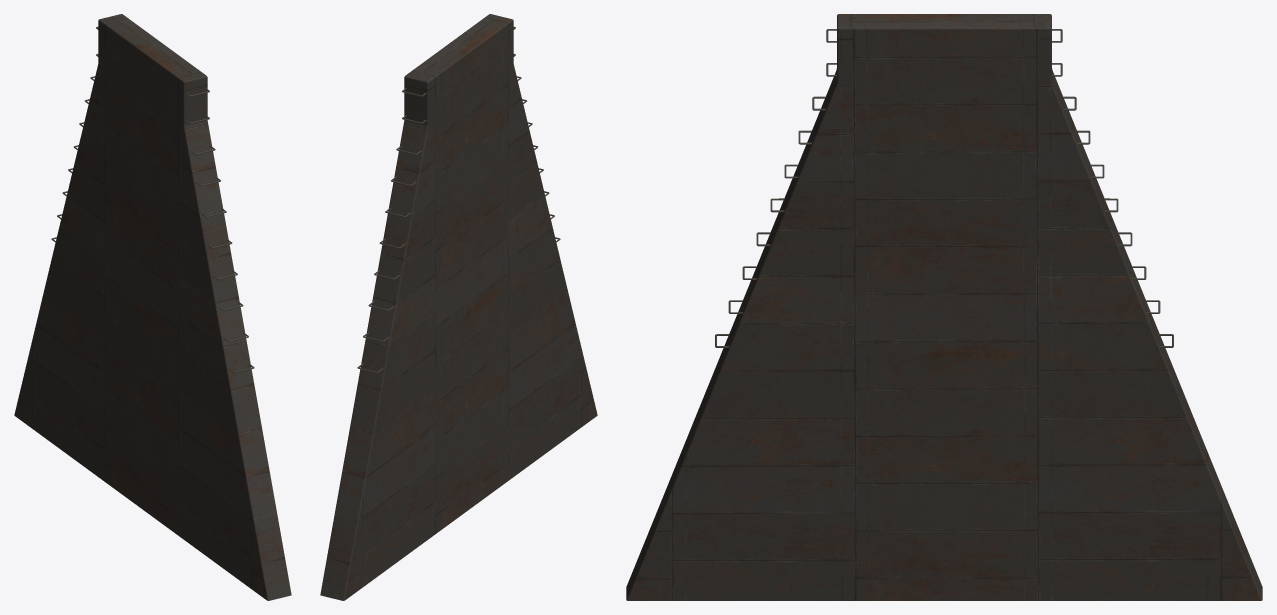
File: Wall1_el2.fbx
3 renders of one model, left to right at view 1: azimuth 30°, elevation 25°; view 2: azimuth 150°, elevation 25°; view 3: azimuth 270°, elevation 25°, orthographic. The views are drawn at different scales.
Visible parts, largest first — view 1: polySurface385; view 2: polySurface385; view 3: polySurface385.
Boxes of the visible parts, x1,y1,x2,y2 form: polySurface385: (14,14,291,600); polySurface385: (320,14,597,600); polySurface385: (626,14,1262,600).
Size of the model in its own units: 188 by 3379 by 3401.
